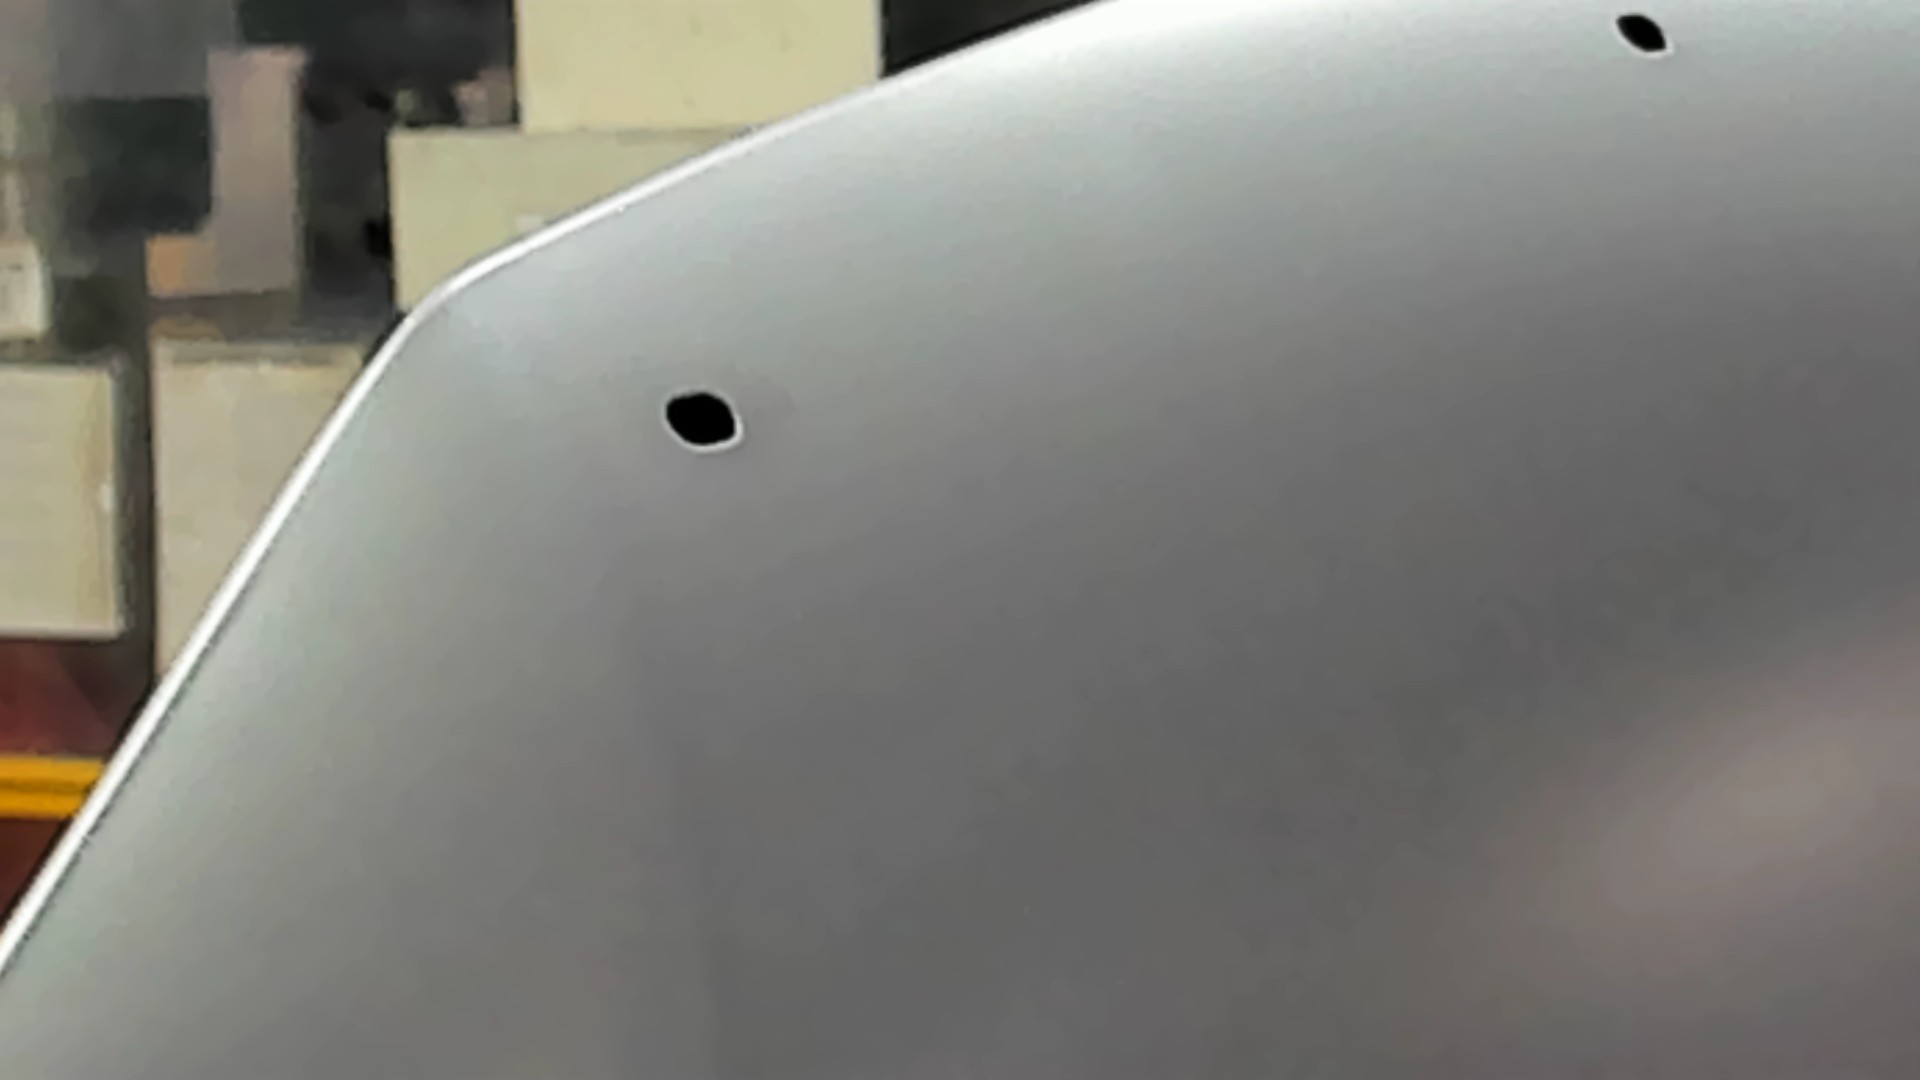amorfo: (659, 386, 748, 459), (1607, 9, 1680, 65)
capo: (861, 120, 1920, 1080)
